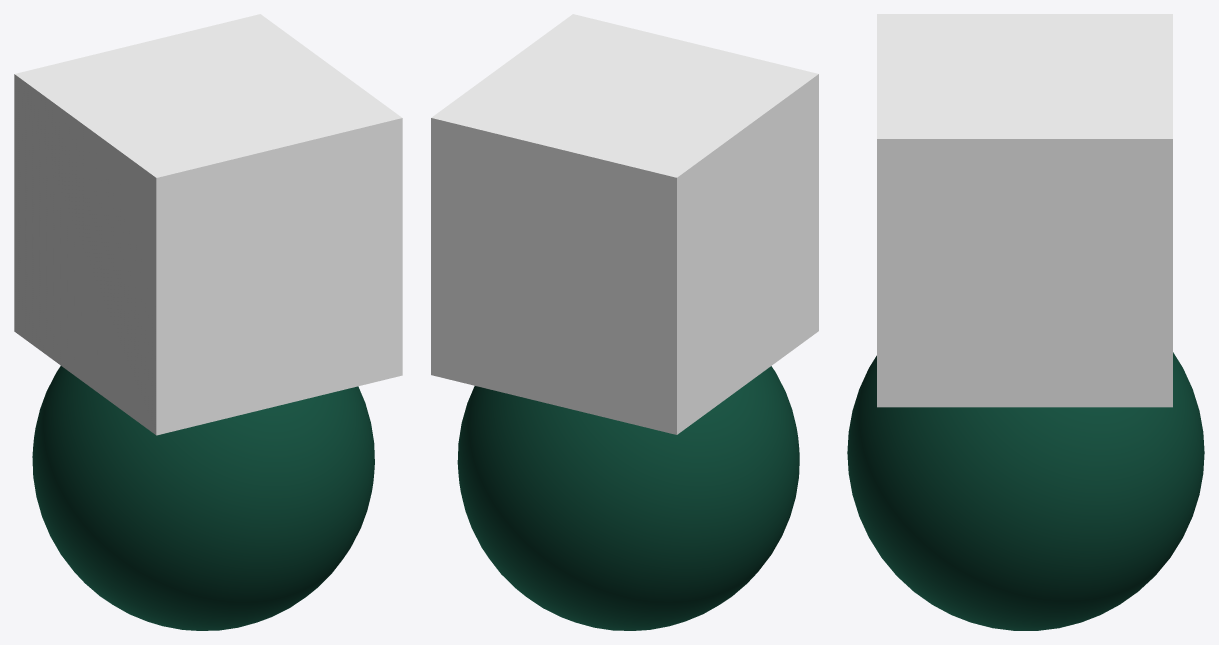
File: sphere_green.glb
The picture shows the model from 3 angles, left to right: view 1: azimuth 30°, elevation 25°; view 2: azimuth 150°, elevation 25°; view 3: azimuth 270°, elevation 25°; orthographic projection. The views are drawn at different scales.
Visible parts, largest first — view 1: placeholder, GeoSphere001; view 2: placeholder, GeoSphere001; view 3: placeholder, GeoSphere001.
Boxes of the visible parts, <box> form: placeholder: <box>14,14,402,435</box>; GeoSphere001: <box>32,366,374,630</box>; placeholder: <box>431,14,818,434</box>; GeoSphere001: <box>457,366,799,630</box>; placeholder: <box>877,14,1172,407</box>; GeoSphere001: <box>847,352,1204,630</box>.
Bounding box in the file's own units: 2.31 × 3.86 × 2.31.
